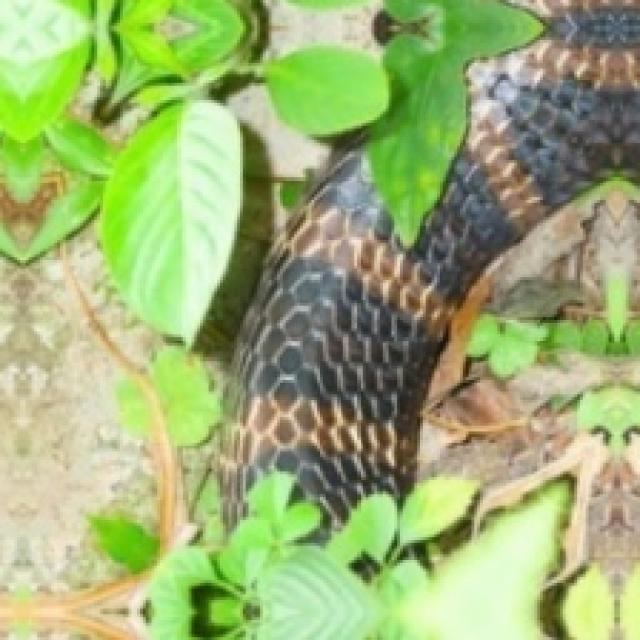king cobra: (220, 0, 637, 637)
